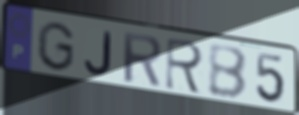5: (254, 52, 287, 105)
B: (207, 44, 249, 102)
G: (35, 20, 76, 73)
J: (83, 29, 114, 78)
R: (163, 36, 206, 97), (120, 29, 164, 88)
